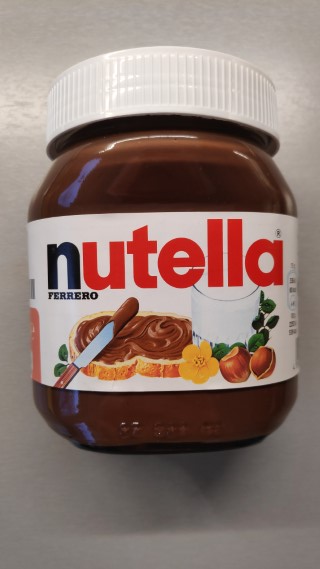nutella: (25, 43, 301, 453)
